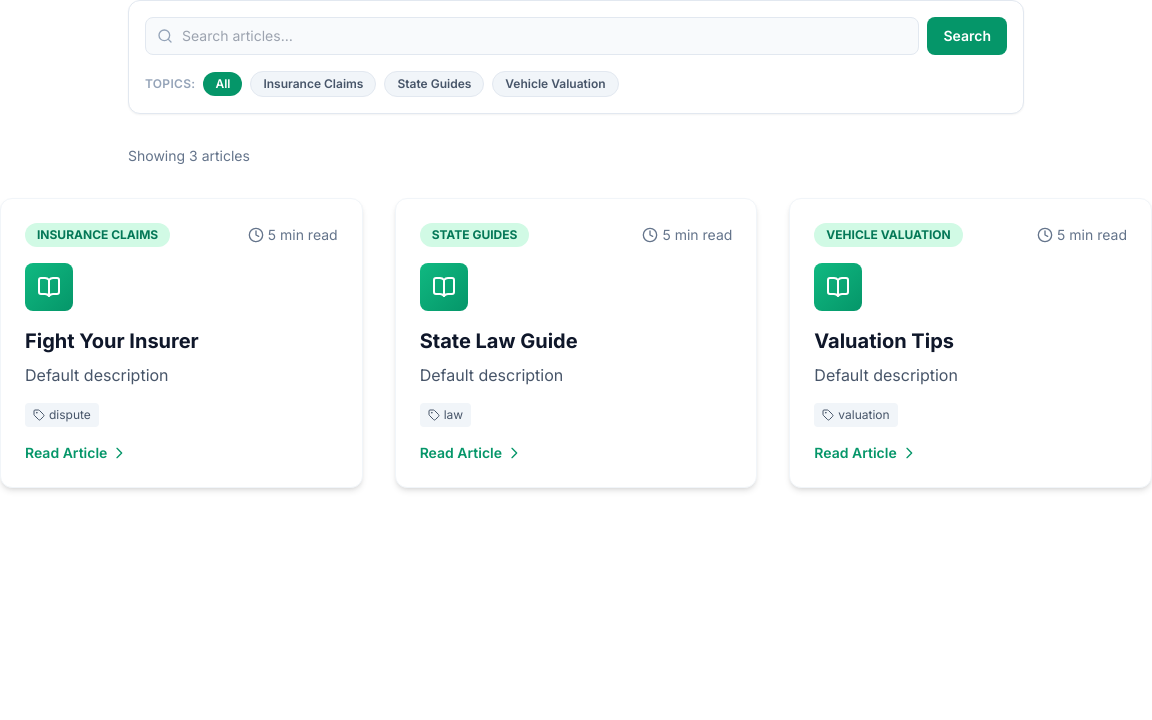
Test: KBClientPage › filters articles by search query matching title
The width and height of the screenshot is (1152, 720).
Type "valuation" into the field with placeholder "Search articles…" at (532, 36), box [145,17,920,55]
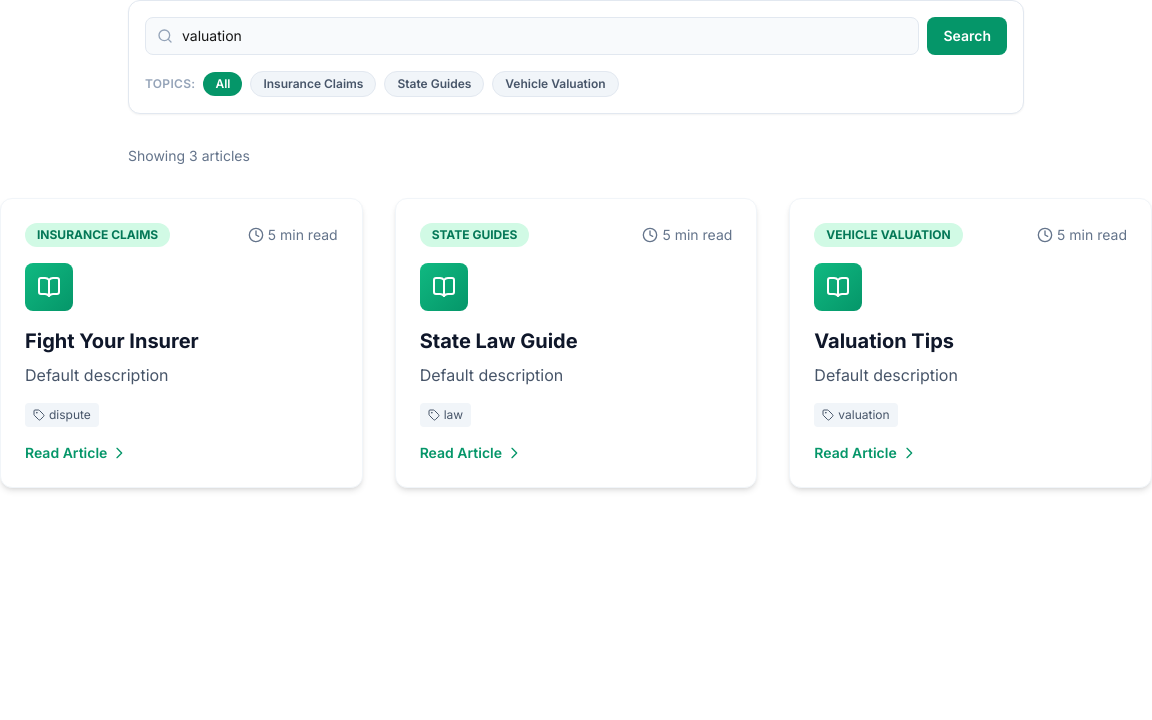
Submit the form "Search", box [145,17,1007,55]
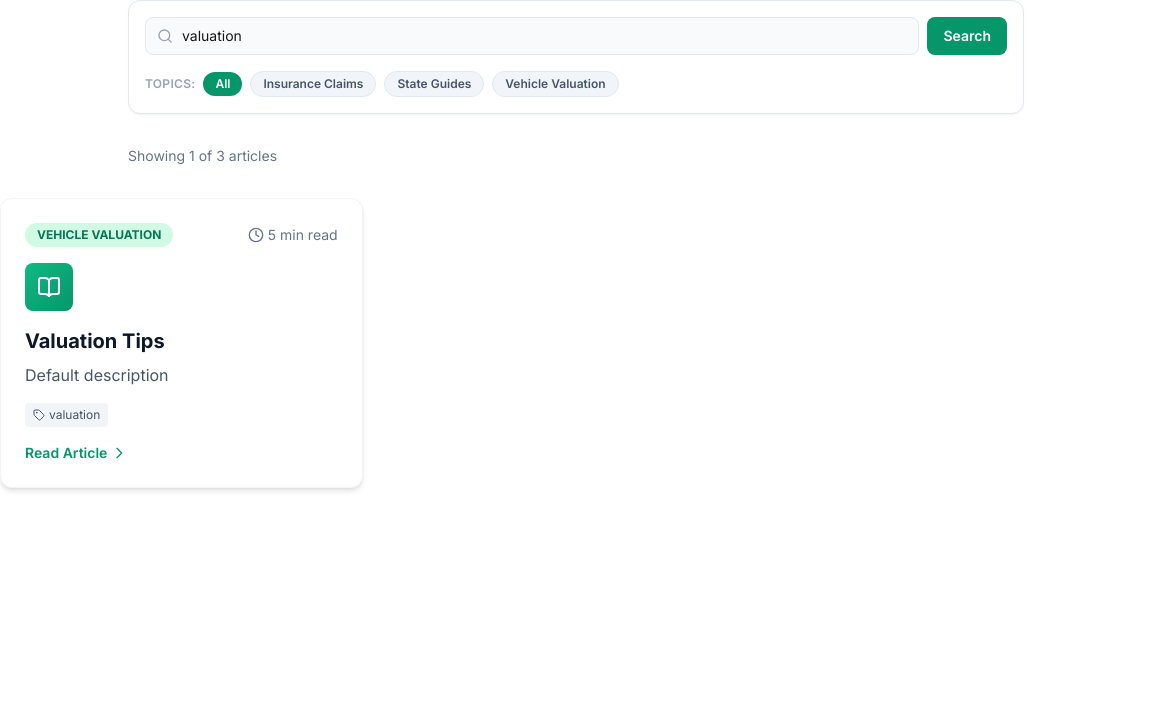
Expected: the heading "Valuation Tips" is shown, [25,329,165,353]
Result: the link "Fight Your Insurer" is gone
